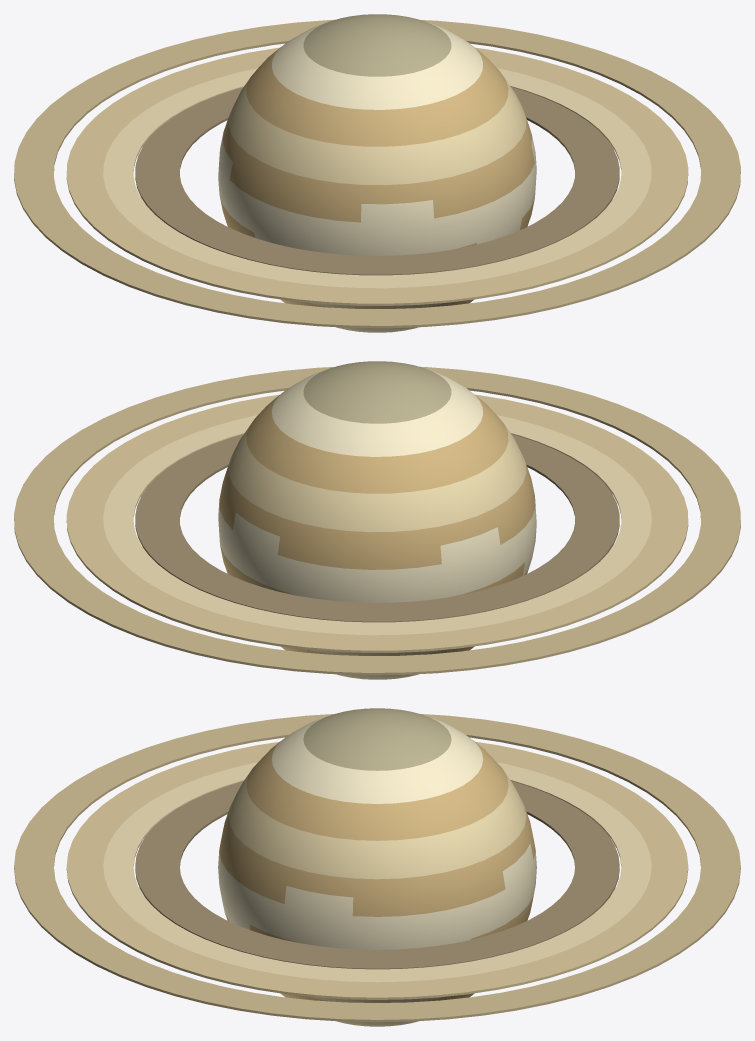
Rendered from saturn.glb.
3 views of the same model, one above another, from view 1: azimuth 30°, elevation 25°; view 2: azimuth 150°, elevation 25°; view 3: azimuth 270°, elevation 25° (orthographic).
Parts seen in each view (by area): view 1: body; view 2: body; view 3: body.
Part boxes in pixels (x1,y1,x2,y2): body: [14, 14, 740, 332]; body: [14, 361, 740, 679]; body: [14, 708, 740, 1026].
Size of the model in its own units: 456 by 200 by 456.
